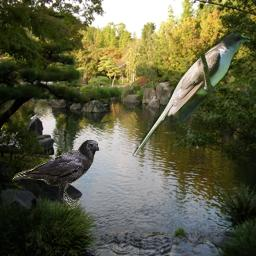Crow: (10, 139, 99, 210)
Cuckoo: (132, 32, 250, 158)
